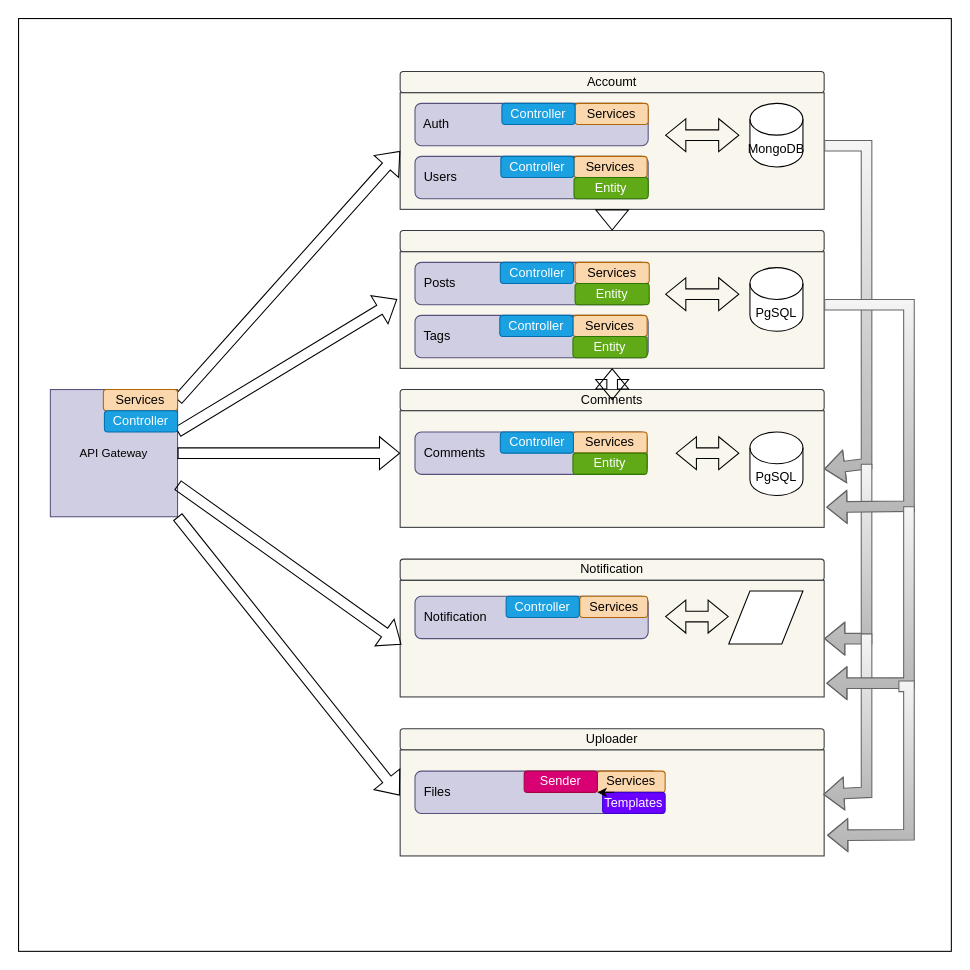
Image size: 970x970. Some labels were removed from this diagram. The shapes that lost their labels are listed below. From the top down, each one's centre as x and y in pixels, then its label:
point 611,240: Blog
point 765,617: RabbitMQ
